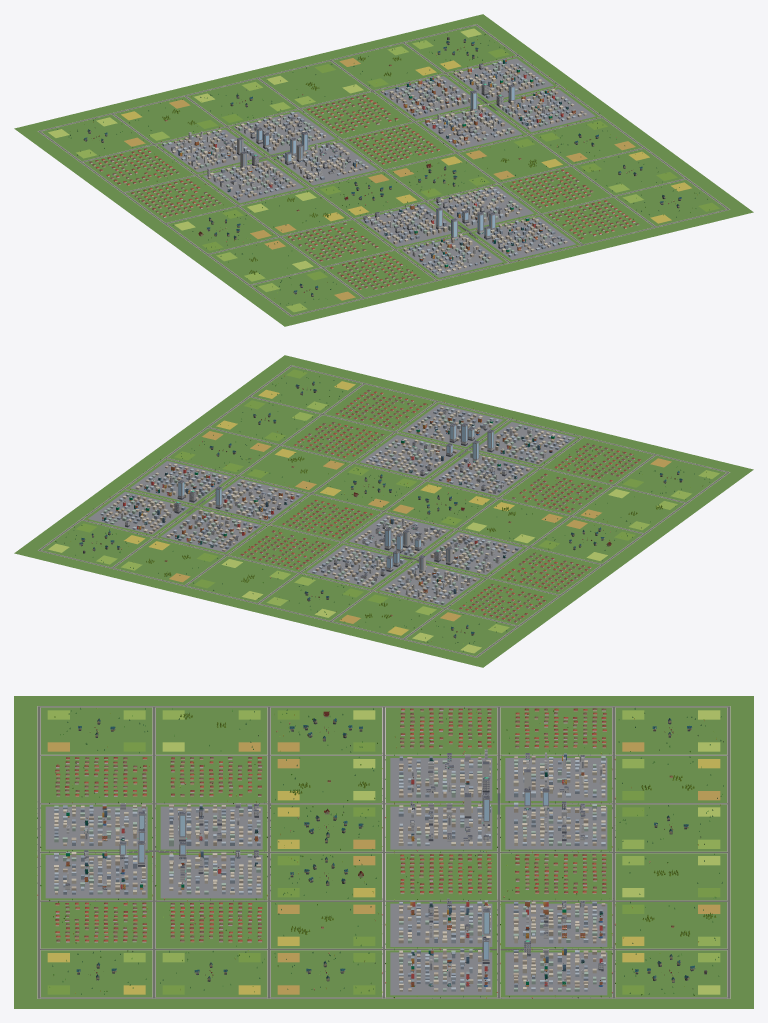
Rendered from map3_full.glb.
3 views of the same model, one above another, from view 1: azimuth 30°, elevation 25°; view 2: azimuth 150°, elevation 25°; view 3: azimuth 270°, elevation 25° (orthographic). The views are drawn at different scales.
Visible parts, largest first — view 1: chunk_2_2, chunk_0_2, chunk_0_0, chunk_1_0, chunk_0_1, chunk_2_0, chunk_1_1, chunk_2_1, chunk_1_2, farmland_farmland, city_Noorabad_b22, city_Sultan Bagh_b35 (+24 smaller); view 2: chunk_2_2, chunk_0_2, chunk_0_0, chunk_1_0, chunk_0_1, chunk_2_0, chunk_1_1, chunk_2_1, chunk_1_2, farmland_farmland, city_Sultan Bagh_b24, city_Falcon City_b42 (+24 smaller); view 3: chunk_2_2, chunk_0_2, chunk_0_0, chunk_1_0, chunk_0_1, chunk_2_0, chunk_1_1, chunk_2_1, chunk_1_2, farmland_farmland, city_Sultan Bagh_b35, city_Noorabad_b21 (+24 smaller).
Boxes of the visible parts, x1,y1,x2,y2 form: chunk_2_2: (497,144,753,251); chunk_0_2: (192,219,446,326); chunk_0_0: (14,89,267,196); chunk_1_0: (176,53,412,156); chunk_0_1: (108,158,350,258); chunk_2_0: (321,14,575,121); chunk_1_1: (268,121,496,218); chunk_2_1: (413,82,659,183); chunk_1_2: (351,183,591,287); farmland_farmland: (121,46,562,281); city_Noorabad_b22: (274,131,376,185); city_Sultan Bagh_b35: (475,212,581,260); chunk_2_2: (192,355,446,463); chunk_0_2: (500,430,753,537); chunk_0_0: (321,560,575,667); chunk_1_0: (176,525,414,628); chunk_0_1: (416,499,659,599); chunk_2_0: (14,485,269,592); chunk_1_1: (270,464,498,560); chunk_2_1: (108,423,353,524); chunk_1_2: (354,394,591,499); farmland_farmland: (121,448,677,635); city_Sultan Bagh_b24: (431,440,539,495); city_Falcon City_b42: (203,477,306,521); chunk_2_2: (14,900,270,1008); chunk_0_2: (14,696,270,803); chunk_0_0: (499,696,753,803); chunk_1_0: (500,803,753,900); chunk_0_1: (269,696,500,802); chunk_2_0: (499,900,753,1008); chunk_1_1: (271,803,500,900); chunk_2_1: (269,900,500,1008); chunk_1_2: (14,803,270,900); farmland_farmland: (162,708,723,946); city_Sultan Bagh_b35: (37,828,153,900); city_Noorabad_b21: (500,786,612,851).
Size of what is drawn, in the model's own units: 3220 by 145 by 3220.
